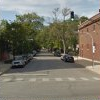crosswalk: (0, 76, 99, 83)
